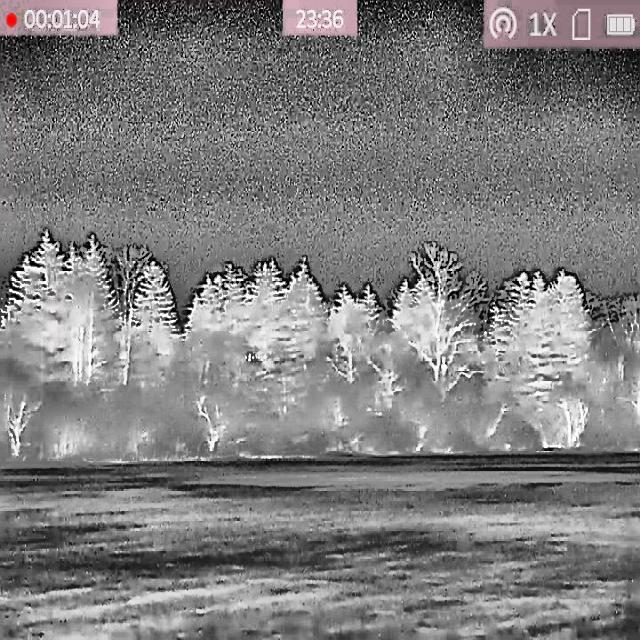drone: (245, 351, 256, 364)
